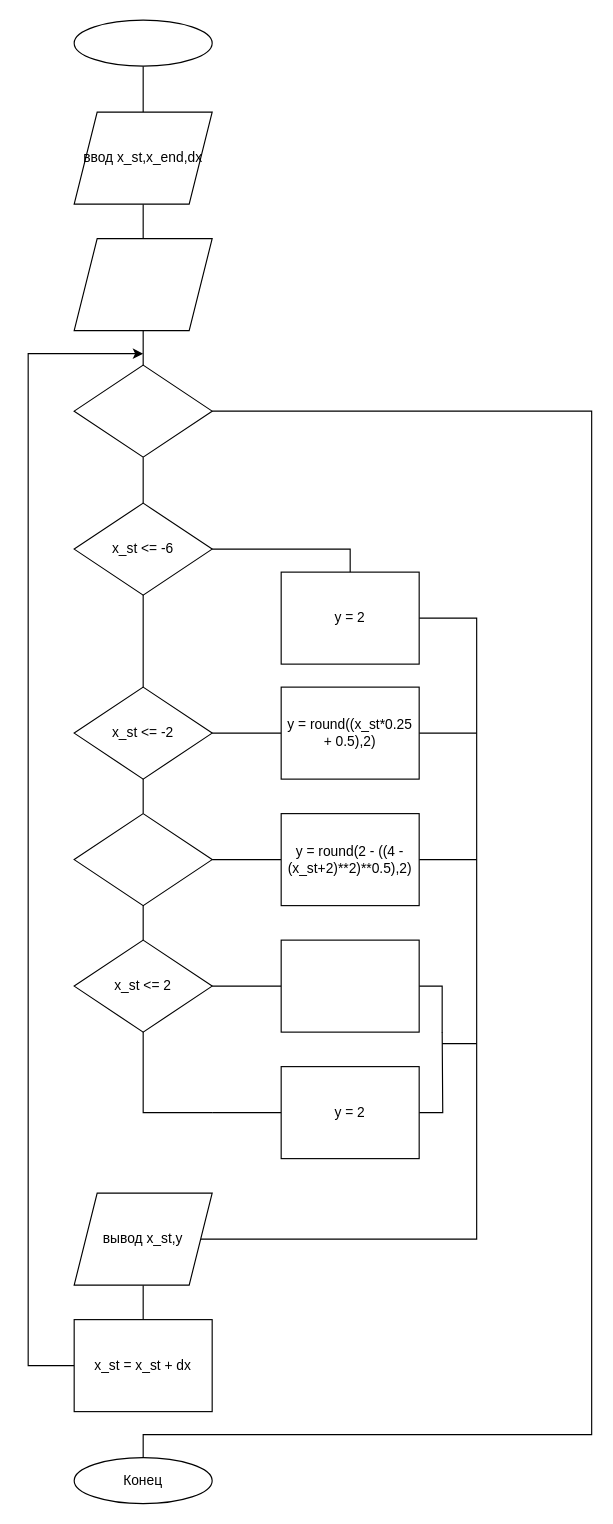
This 613x1524 diagram has some shape labels left out. Here are the shapes that lost their labels. From the top down, the box of each, then its label:
(73, 19, 212, 66): Начало
(73, 237, 212, 331): вывод x|y
(73, 364, 212, 457): while x_st <= x_end
(73, 812, 212, 906): x_st <= 0
(280, 939, 419, 1032): y = round((4 - x_st**2)**0.5,2)
